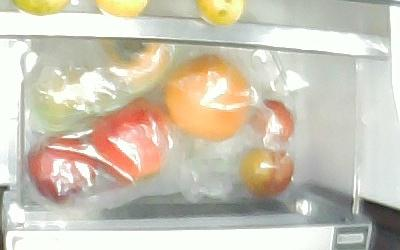apple_vinyl: (90, 95, 174, 184), (24, 130, 102, 204)
grapefruit_vinyl: (163, 53, 250, 141)
persimmon_vinyl: (97, 38, 171, 88)
prune_vinyl: (240, 146, 294, 196), (248, 99, 295, 143)
